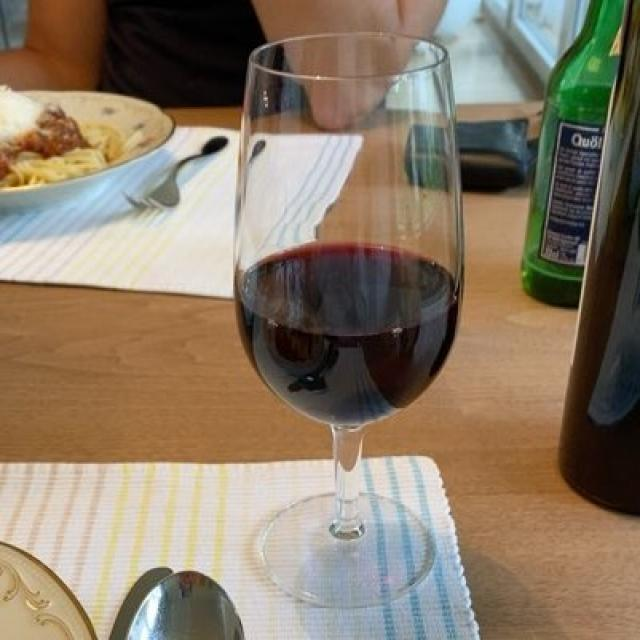wine: (242, 246, 449, 423)
